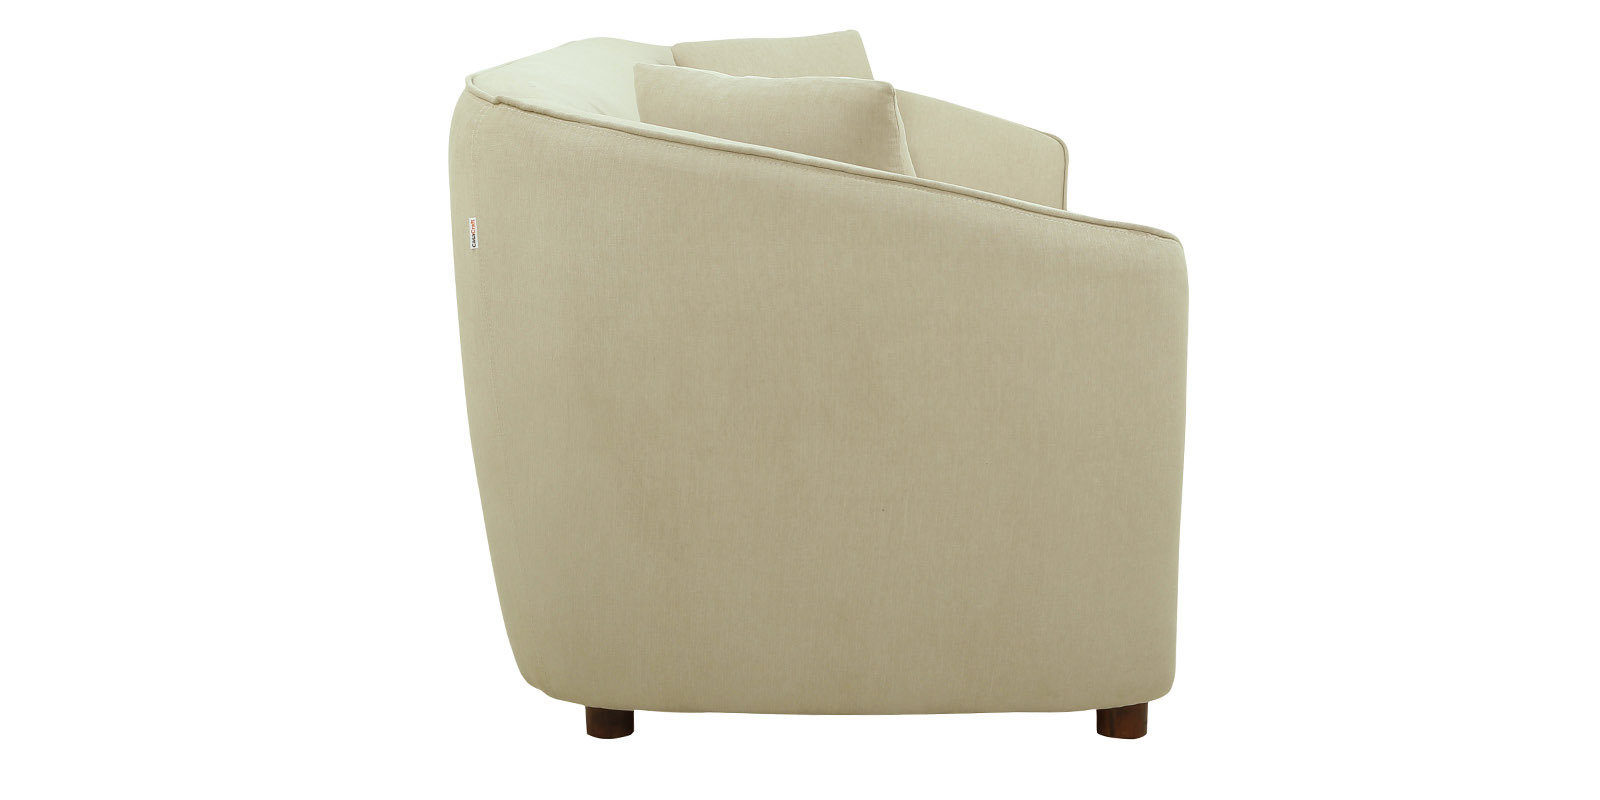Mamore Three Seater Sofa in Beige Color by CasaCraft: (446, 26, 1190, 741)
